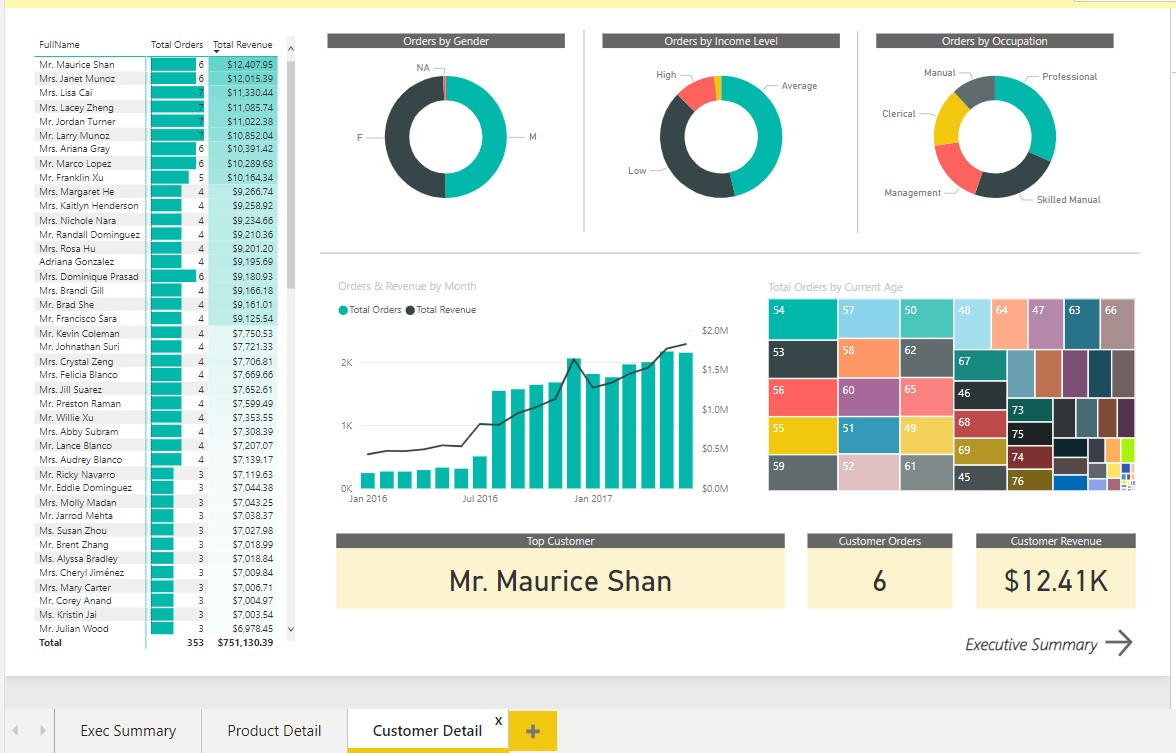

What the dashboard file says about the page in this screenshot:
{"tool":"powerbi","page":{"name":"Customer Detail","canvas":[1280,720],"ordinal":2},"visuals":[{"type":"pivotTable","fields":{"Values":["AW_Sales.Total Orders","AW_Sales.Total Revenue"],"Rows":["AW_Customer_Lookup.FullName"]},"box":[27.7,12.1,296.3,682.9],"z":0},{"type":"donutChart","title":"Orders by Gender","fields":{"Y":["AW_Sales.Total Orders"],"Category":["AW_Customer_Lookup.Gender"]},"box":[354.6,13.7,260.6,211.6],"z":1000},{"type":"donutChart","title":"Orders by Income Level","fields":{"Y":["AW_Sales.Total Orders"],"Category":["AW_Customer_Lookup.IncomeLevel"]},"box":[656.1,13.7,260.8,211.6],"z":2000},{"type":"donutChart","title":"Orders by Occupation","fields":{"Y":["AW_Sales.Total Orders"],"Category":["AW_Customer_Lookup.Occupation"]},"box":[957.9,13.7,260.8,211.6],"z":3000},{"type":"lineClusteredColumnComboChart","title":"Orders & Revenue by Month","fields":{"Y":["AW_Sales.Total Orders"],"Y2":["AW_Sales.Total Revenue"],"Category":["AW_Calendar_Lookup.Start of Month"]},"box":[360.6,282.5,439,258.5],"z":4000},{"type":"treemap","fields":{"Values":["AW_Sales.Total Orders"],"Group":["AW_Customer_Lookup.Current Age"]},"box":[833.9,284.6,412.9,237],"z":5000},{"type":"card","title":"Top Customer","fields":{"Values":["AW_Customer_Lookup.FullName"]},"box":[363.8,562.8,493,82.4],"z":6000},{"type":"card","title":"Customer Orders","fields":{"Values":["AW_Sales.Total Orders"]},"box":[881.9,562.8,159,82.4],"z":7000},{"type":"card","title":"Customer Revenue","fields":{"Values":["AW_Sales.Total Revenue"]},"box":[1066.8,562.8,175.5,82.4],"z":8000},{"type":"textbox","box":[1025.8,667.1,179.6,45.8],"z":9000},{"type":"actionButton","box":[1203.4,663,48,40],"z":10000},{"type":"basicShape","box":[612,0.7,46.9,241.4],"z":11000},{"type":"basicShape","box":[912.8,1.1,46.9,241.4],"z":12000},{"type":"basicShape","box":[336.3,236.8,920.8,37.7],"z":13000}]}

Visuals, with their boxes on the page's 1280x720 design canvas (x1, y1, x2, y2). These are canvas units, not pixel positions in the 1176x753 screenshot, which may show the page scaled, cropped or inside an application window:
pivotTable - AW_Sales.Total Orders x AW_Sales.Total Revenue: [28,12,324,695]
"Orders by Gender" donutChart: [355,14,615,225]
"Orders by Income Level" donutChart: [656,14,917,225]
"Orders by Occupation" donutChart: [958,14,1219,225]
"Orders & Revenue by Month" lineClusteredColumnComboChart: [361,282,800,541]
treemap - AW_Sales.Total Orders x AW_Customer_Lookup.Current Age: [834,285,1247,522]
"Top Customer" card: [364,563,857,645]
"Customer Orders" card: [882,563,1041,645]
"Customer Revenue" card: [1067,563,1242,645]
textbox: [1026,667,1205,713]
actionButton: [1203,663,1251,703]
basicShape: [612,1,659,242]
basicShape: [913,1,960,242]
basicShape: [336,237,1257,274]
